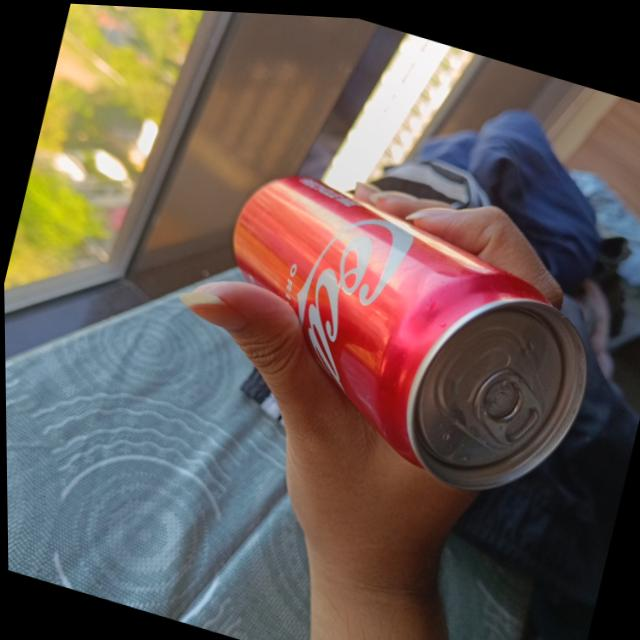coke: (186, 151, 616, 515)
